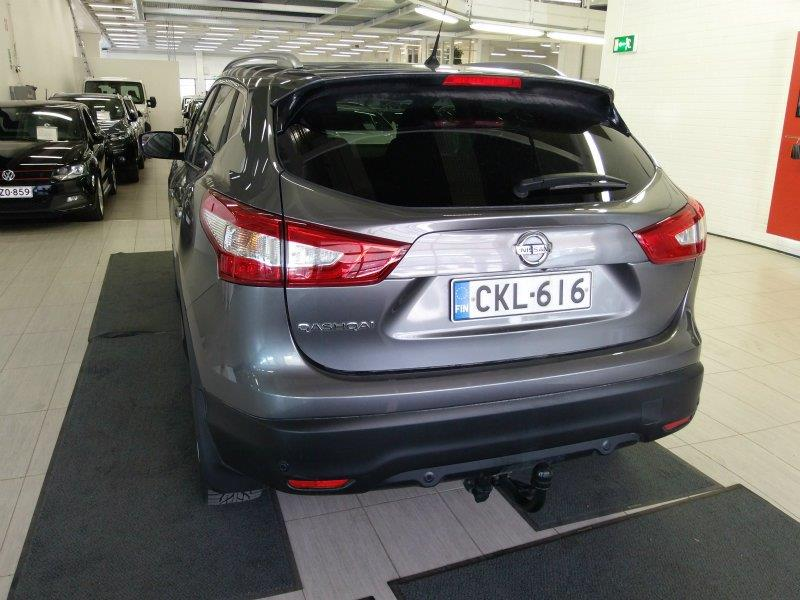license: (449, 267, 593, 322)
